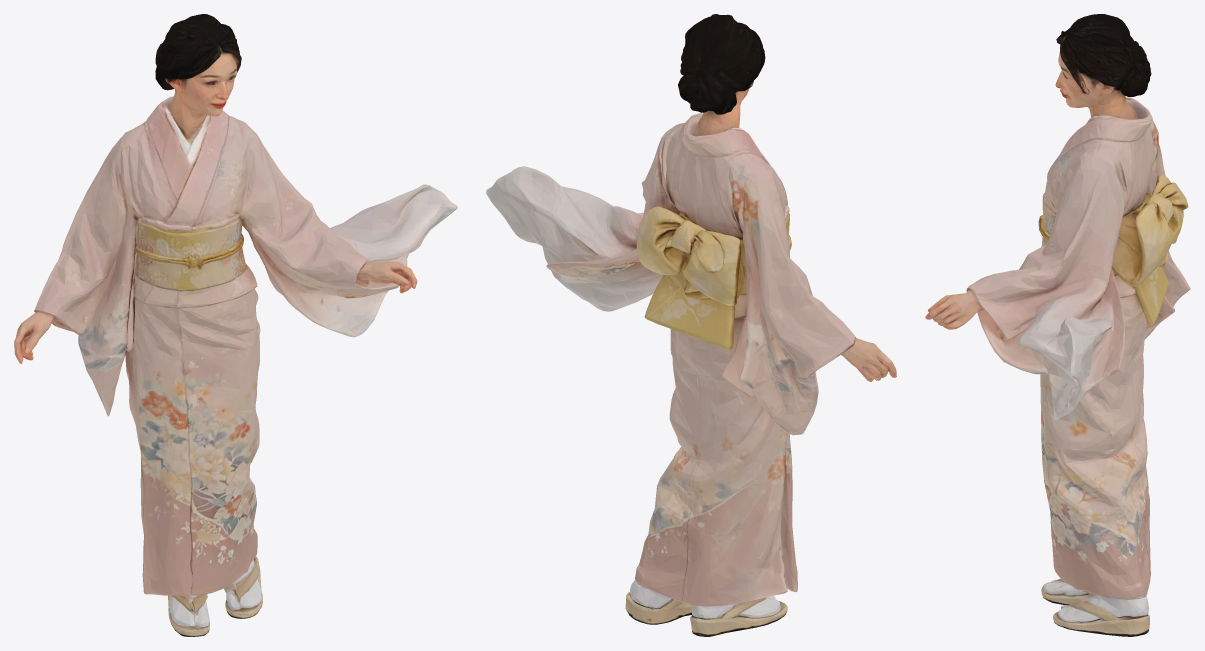
File: kimono.glb
3 renders of one model, left to right at view 1: azimuth 30°, elevation 25°; view 2: azimuth 150°, elevation 25°; view 3: azimuth 270°, elevation 25°, orthographic.
Visible parts, largest first — view 1: Mesh_0_modddif_material_0_0; view 2: Mesh_0_modddif_material_0_0; view 3: Mesh_0_modddif_material_0_0.
Part boxes in pixels (left/top/right/bottom): Mesh_0_modddif_material_0_0: left=14, top=14, right=457, bottom=636; Mesh_0_modddif_material_0_0: left=486, top=14, right=896, bottom=636; Mesh_0_modddif_material_0_0: left=925, top=14, right=1190, bottom=636.
Bounding box in the file's own units: 0.7413 × 0.9997 × 0.4032.
1 material, 1 textured.
